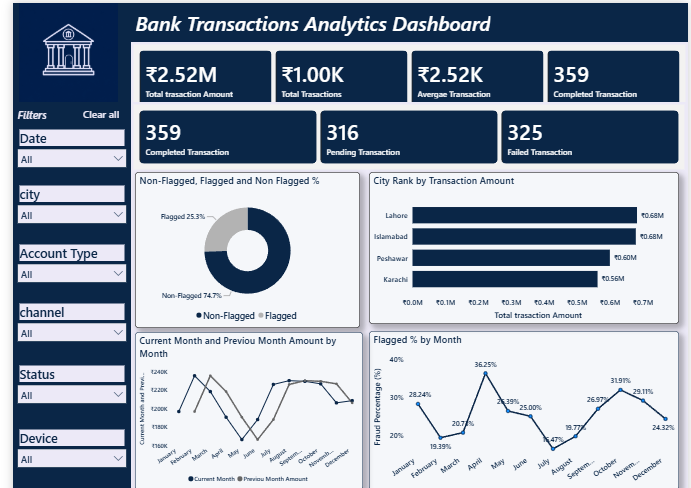

The page's visual inventory and layout, read from the dashboard file:
{"tool":"powerbi","page":{"name":"Dashboard","canvas":[1350,1000],"ordinal":0},"visuals":[{"type":"shape","box":[236,0,1114,78],"z":0},{"type":"cardVisual","fields":{"Data":["All measures.Total trasaction Amount","All measures.Total Trasactions","All measures.Avergae Transaction","All measures.Completed Transaction"]},"box":[236,78,1114,146],"z":1000},{"type":"cardVisual","fields":{"Data":["All measures.Complete Transaction","All measures.Pending Transaction","All measures.Failed Transaction"]},"box":[236,198,1114,140],"z":2000},{"type":"donutChart","fields":{"Y":["All measures.Non-Flagged","All measures.Flagged"]},"box":[243.3,338.3,450,311.7],"z":3000},{"type":"lineChart","fields":{"Category":["Custom_Calender.Date.Variation.Date Hierarchy.Month"],"Y":["All measures.Flagged %"]},"box":[712,656,620,318],"z":4000},{"type":"clusteredBarChart","title":"City Rank by Transaction Amount","fields":{"Category":["Table_bank.city"],"Y":["All measures.Total trasaction Amount"]},"box":[712,338,620,304],"z":5000},{"type":"lineChart","fields":{"Y":["All measures.Current Month","All measures.Previou Month Amount"],"Category":["Custom_Calender.Date.Variation.Date Hierarchy.Month"]},"box":[244,658,456,316],"z":6000},{"type":"shape","box":[0,0,236,1000],"z":7000},{"type":"slicer","fields":{"Values":["Table_bank.city"]},"box":[0,360,236,94],"z":8000},{"type":"slicer","fields":{"Values":["Table_bank.account_type"]},"box":[0,478.3,236,94],"z":9000},{"type":"slicer","fields":{"Values":["Table_bank.channel"]},"box":[0,595,236,94],"z":10000},{"type":"slicer","fields":{"Values":["Table_bank.status"]},"box":[0,720,236,94],"z":11000},{"type":"slicer","fields":{"Values":["Table_bank.device"]},"box":[0,848.3,236,94],"z":12000},{"type":"slicer","fields":{"Values":["Custom_Calender.Date"]},"box":[0,248.3,236,112],"z":13000},{"type":"image","box":[0,0,222,198],"z":14000},{"type":"shape","box":[0,198.3,118.3,50],"z":15000},{"type":"actionButton","box":[135,198.3,101.7,46.7],"z":16000}]}

Visuals, with their boxes on the page's 1350x1000 design canvas (x1, y1, x2, y2). These are canvas units, not pixel positions in the 691x488 screenshot, which may show the page scaled, cropped or inside an application window:
shape: region(236, 0, 1350, 78)
cardVisual - All measures.Total trasaction Amount x All measures.Total Trasactions: region(236, 78, 1350, 224)
cardVisual - All measures.Complete Transaction x All measures.Pending Transaction: region(236, 198, 1350, 338)
donutChart - All measures.Non-Flagged x All measures.Flagged: region(243, 338, 693, 650)
lineChart - Custom_Calender.Date.Variation.Date Hierarchy.Month x All measures.Flagged %: region(712, 656, 1332, 974)
"City Rank by Transaction Amount" clusteredBarChart: region(712, 338, 1332, 642)
lineChart - All measures.Current Month x All measures.Previou Month Amount: region(244, 658, 700, 974)
shape: region(0, 0, 236, 1000)
slicer - Table_bank.city: region(0, 360, 236, 454)
slicer - Table_bank.account_type: region(0, 478, 236, 572)
slicer - Table_bank.channel: region(0, 595, 236, 689)
slicer - Table_bank.status: region(0, 720, 236, 814)
slicer - Table_bank.device: region(0, 848, 236, 942)
slicer - Custom_Calender.Date: region(0, 248, 236, 360)
image: region(0, 0, 222, 198)
shape: region(0, 198, 118, 248)
actionButton: region(135, 198, 237, 245)
